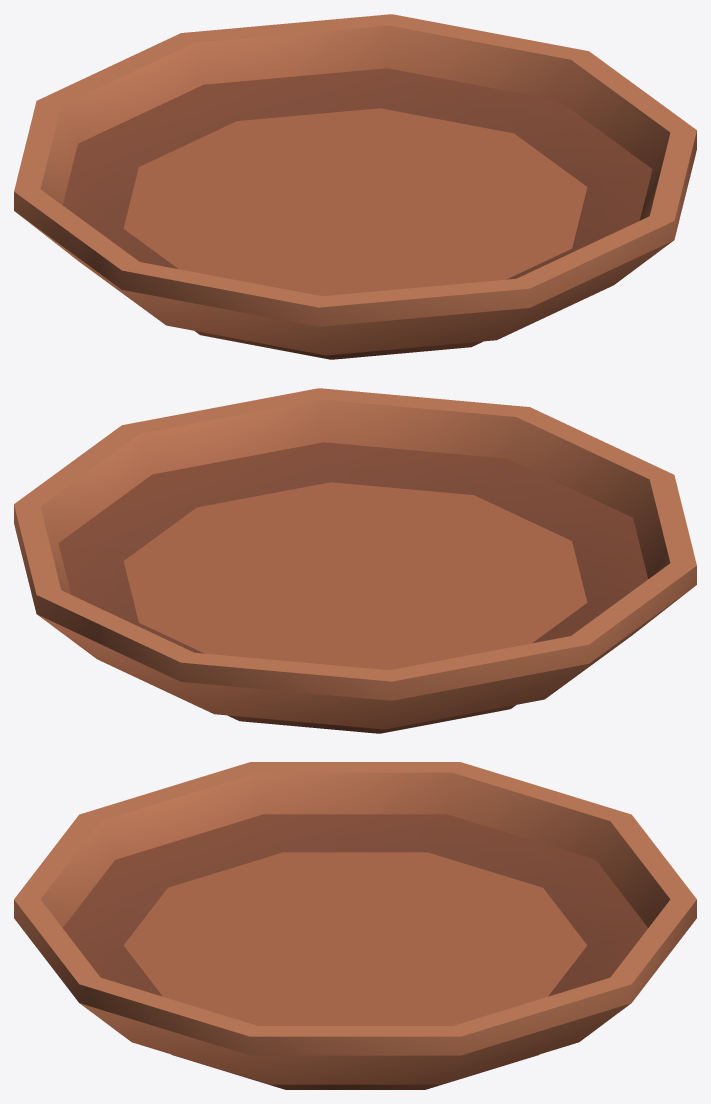
Rendered from tajine.glb.
The picture shows the model from 3 angles, top to bottom: view 1: azimuth 30°, elevation 25°; view 2: azimuth 150°, elevation 25°; view 3: azimuth 270°, elevation 25°; orthographic projection. The views are drawn at different scales.
Visible parts, largest first — view 1: tajine; view 2: tajine; view 3: tajine.
Part boxes in pixels (bbox=[...]): tajine: bbox=[14, 14, 696, 359]; tajine: bbox=[14, 388, 696, 733]; tajine: bbox=[14, 762, 696, 1089].
Size of the model in its own units: 0.8191 by 0.138 by 0.8613.
